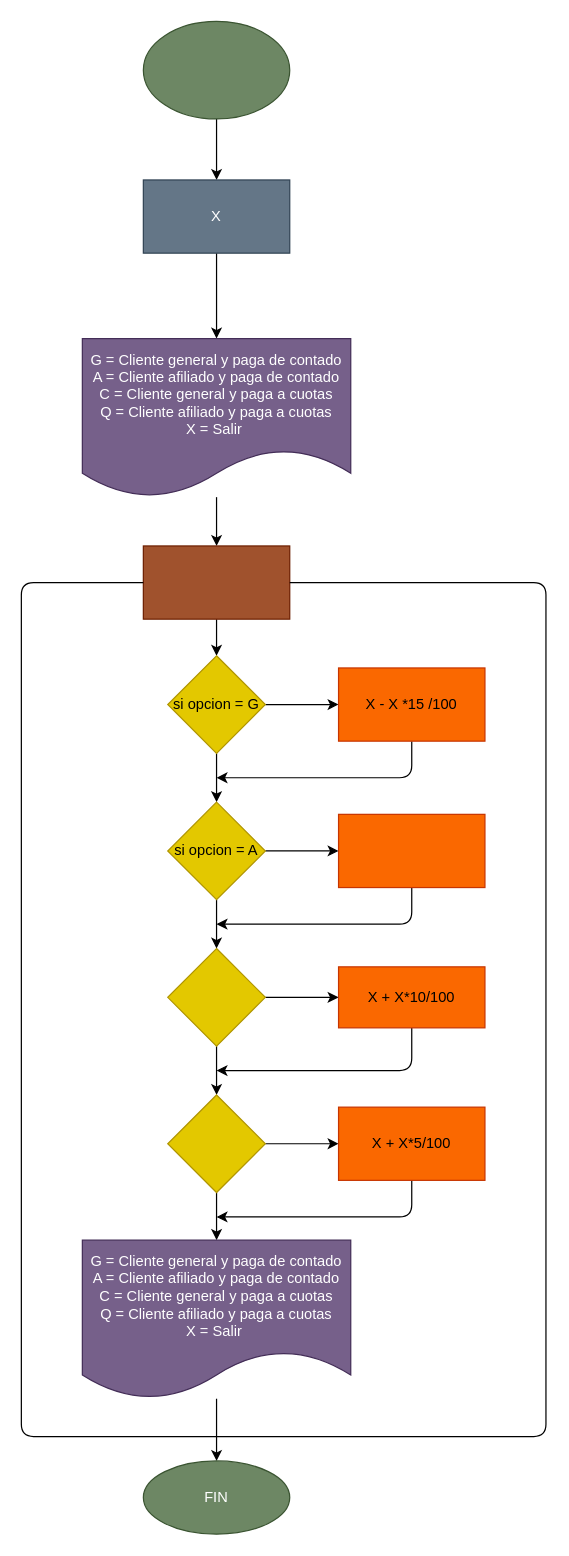
This 569x1556 diagram has some shape labels left out. Here are the shapes that lost their labels. From the top down, the centre of each, then its label:
(x=216, y=69): INICIO
(x=216, y=582): opcion != X
(x=411, y=850): X - X*20/100
(x=216, y=996): si opcion = C
(x=216, y=1143): si opcion = Q
